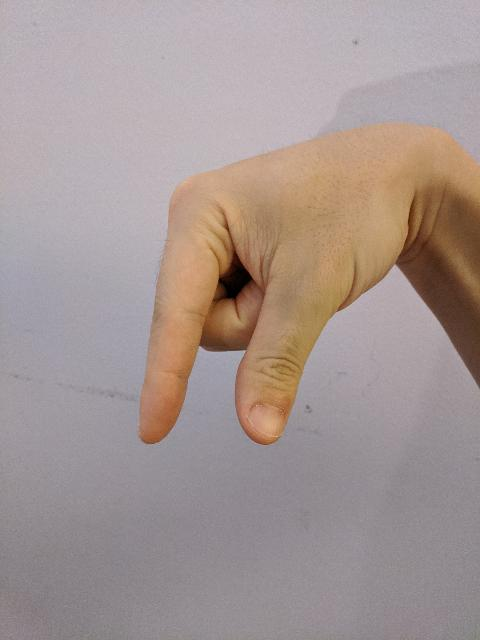Q: (132, 109, 428, 451)
